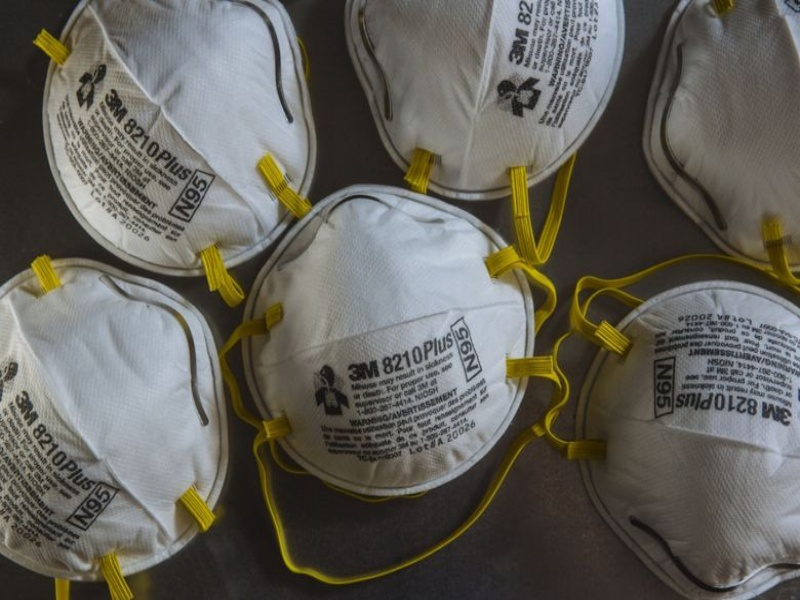mask: (240, 184, 537, 500), (42, 1, 317, 271), (571, 277, 800, 599), (1, 257, 227, 583), (341, 1, 627, 201), (642, 1, 800, 272)
